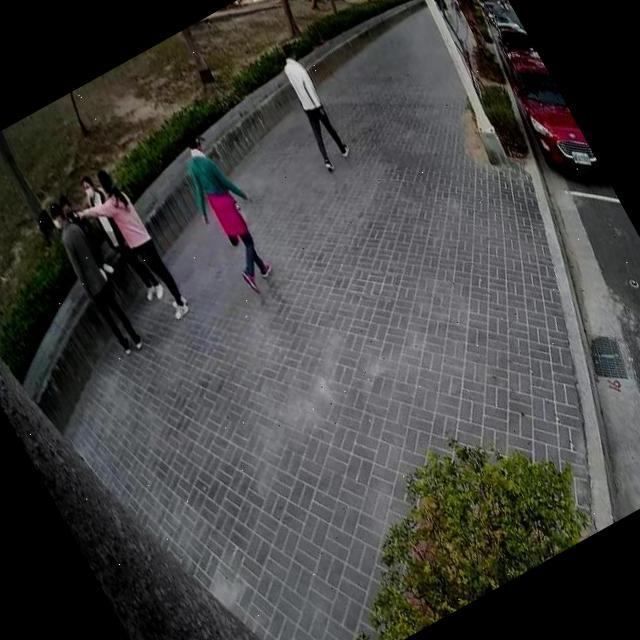person: (156, 112, 298, 304), (54, 156, 196, 342), (36, 191, 149, 362), (66, 162, 168, 310), (261, 36, 359, 175), (54, 186, 122, 288)
